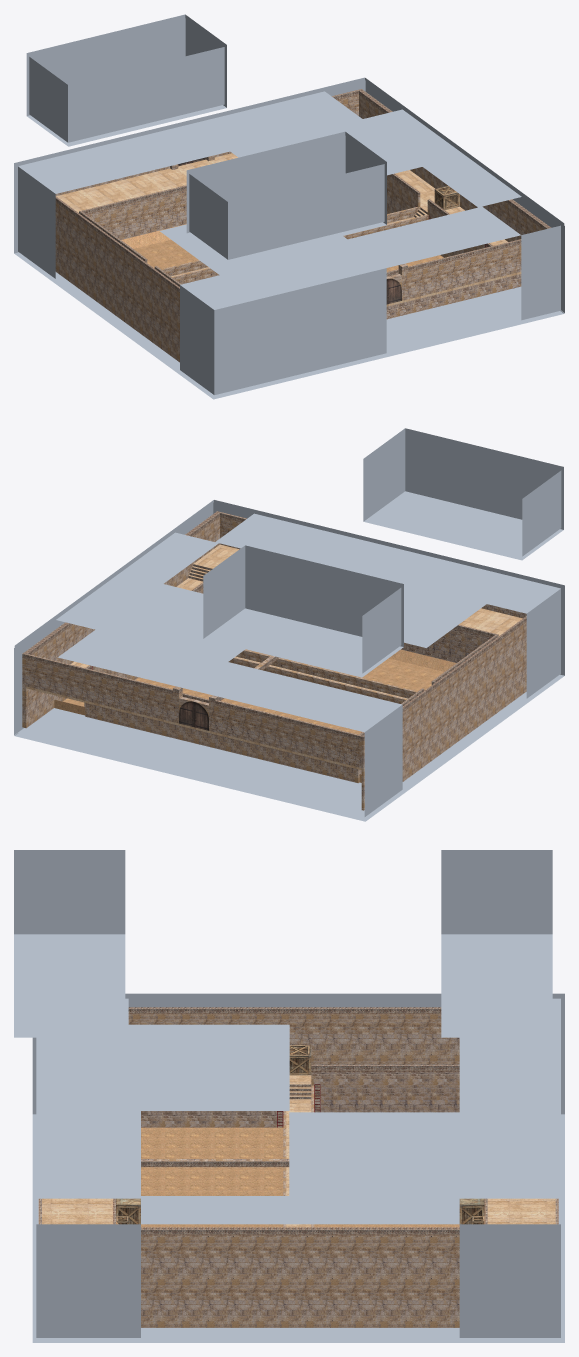
File: 35hp_3_web.glb
3 renders of one model, top to bottom at view 1: azimuth 30°, elevation 25°; view 2: azimuth 150°, elevation 25°; view 3: azimuth 270°, elevation 25°, orthographic. The views are drawn at different scales.
Parts seen in each view (by area): view 1: 35hp_3_sky, 35hp_3_static; view 2: 35hp_3_sky, 35hp_3_static; view 3: 35hp_3_sky, 35hp_3_static.
Boxes of the visible parts, <box> form: 35hp_3_sky: <box>14,14,564,399</box>; 35hp_3_static: <box>55,89,551,362</box>; 35hp_3_sky: <box>14,428,564,821</box>; 35hp_3_static: <box>22,511,526,810</box>; 35hp_3_sky: <box>14,850,564,1342</box>; 35hp_3_static: <box>38,1007,558,1327</box>.
Bounding box in the file's own units: 71.12 × 39.01 × 72.34.
14 materials, 13 textured.
